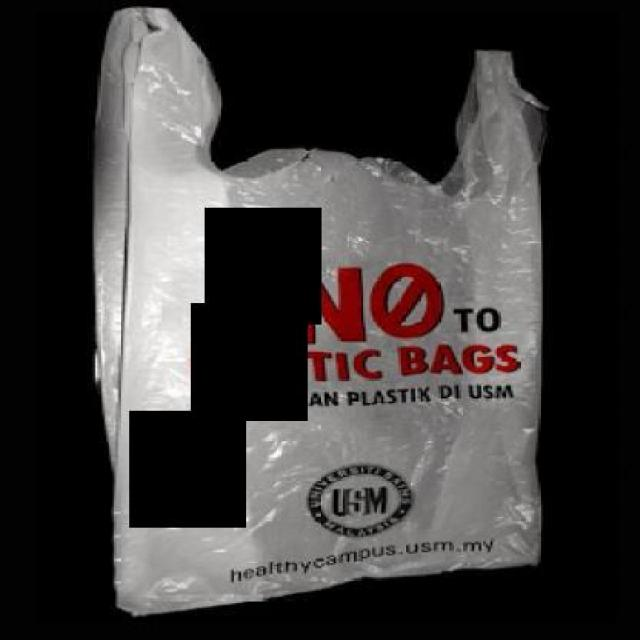plastic bag: (76, 5, 544, 617)
